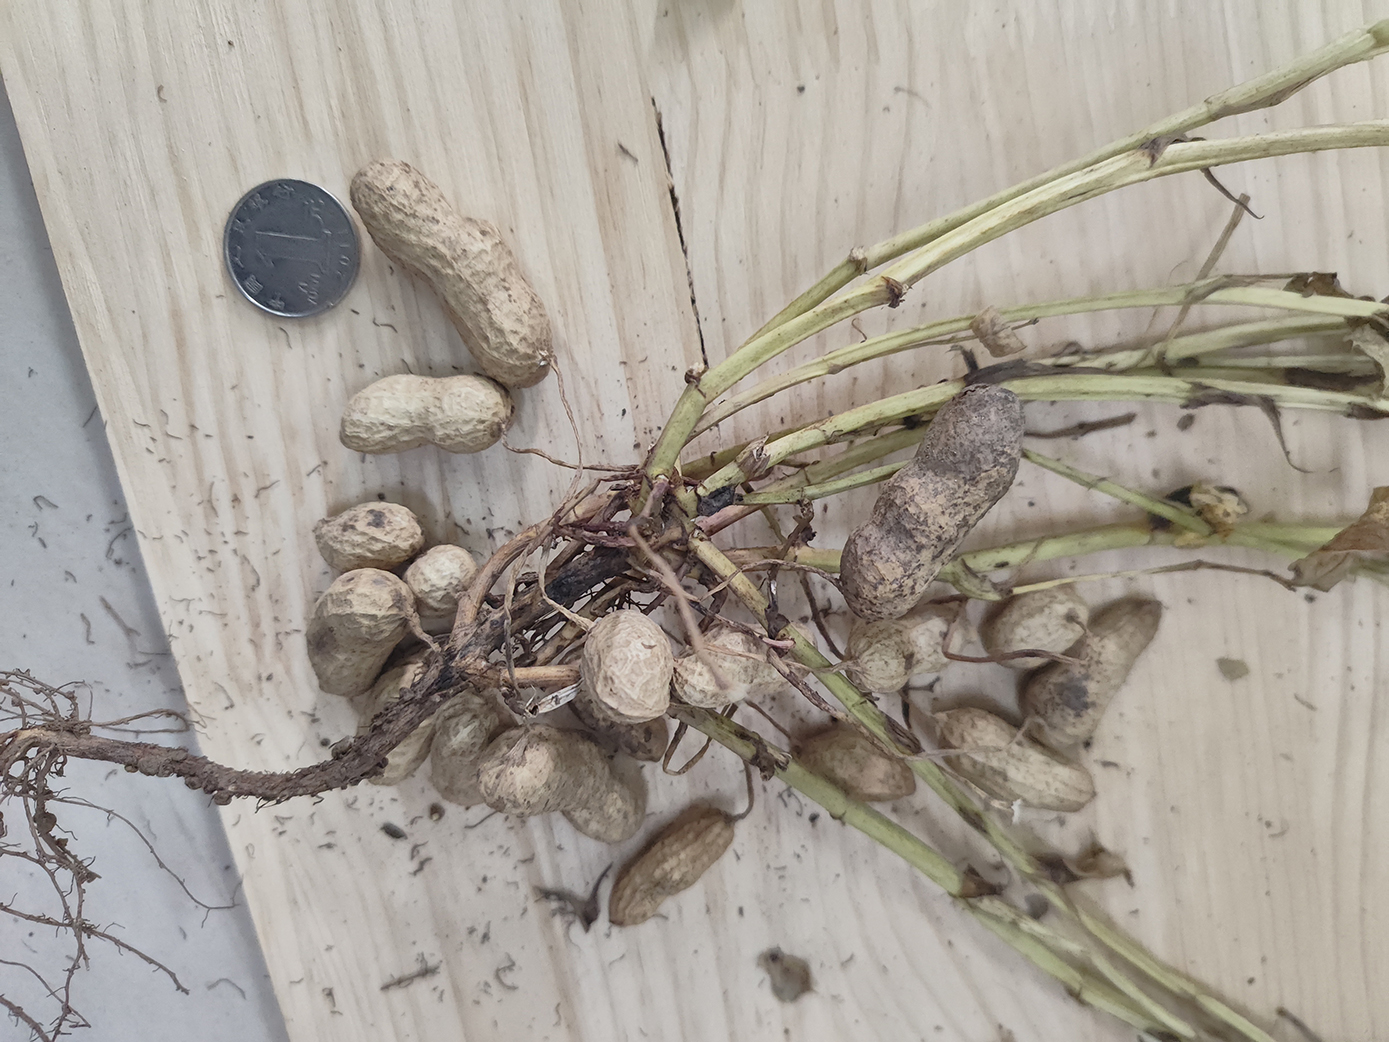h: (350, 158, 551, 387), (1021, 600, 1159, 748), (473, 726, 643, 844), (936, 709, 1097, 812), (610, 814, 733, 928), (340, 374, 514, 453), (306, 568, 413, 696), (356, 656, 444, 784), (675, 625, 811, 708), (788, 726, 918, 811), (580, 610, 670, 726), (845, 613, 975, 692), (983, 587, 1090, 672), (313, 501, 424, 574), (428, 711, 501, 807), (402, 545, 477, 616)
l: (837, 382, 1015, 618)
